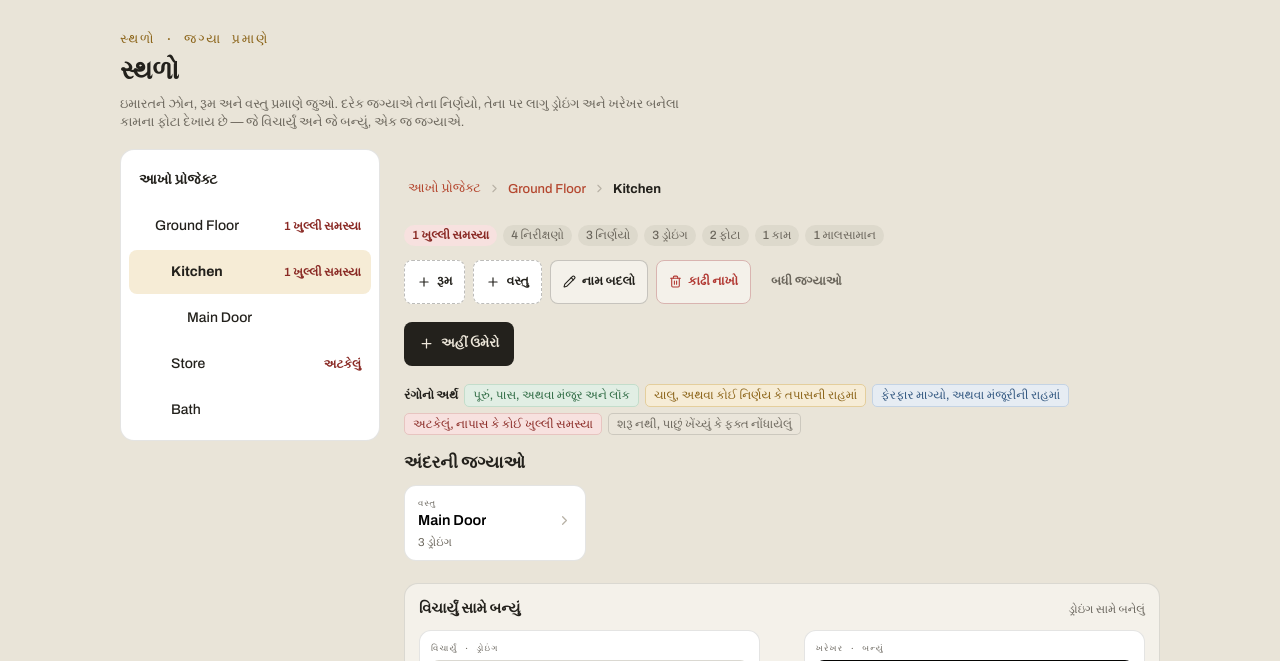
Test: the Site Map in gu (#482 QA item 3) › the Add menu, with a delivery blocked, shows no English
Click the button with test id "place-add" at (459, 344), box [404,322,514,366]
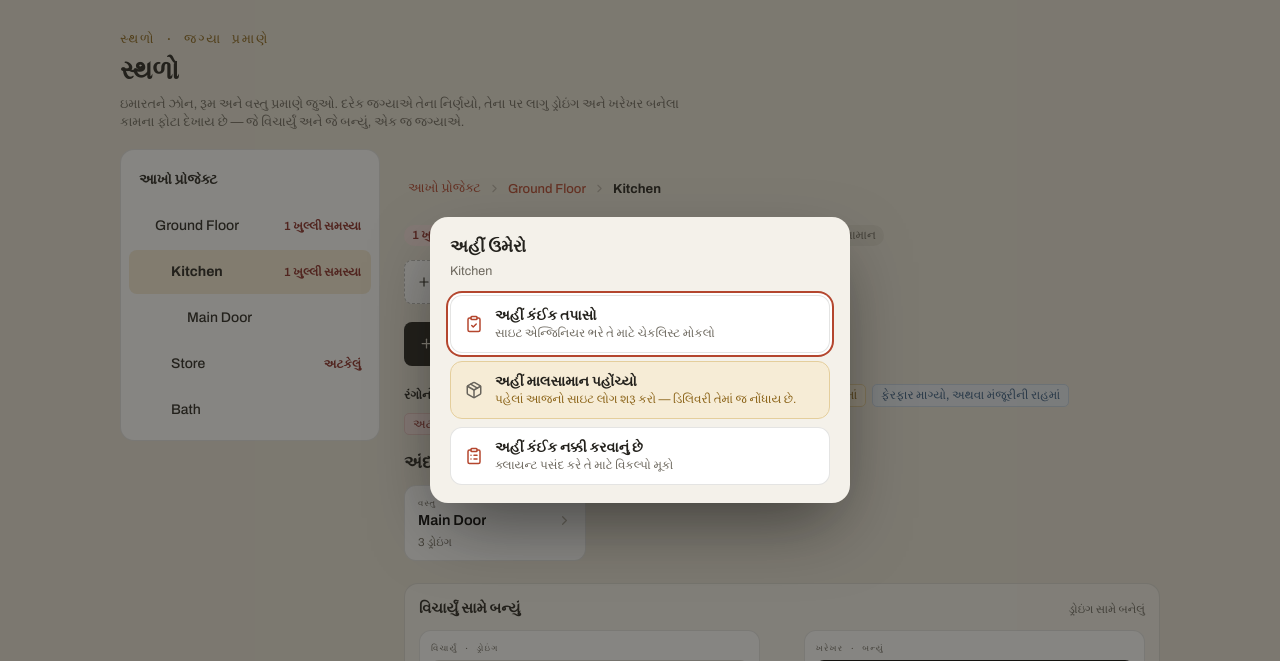
Check: the text "પહેલાં આજનો સાઇટ લોગ શરૂ કરો — ડિલિવરી તેમાં જ નોંધાય છે." is shown, box [495,392,796,406]
